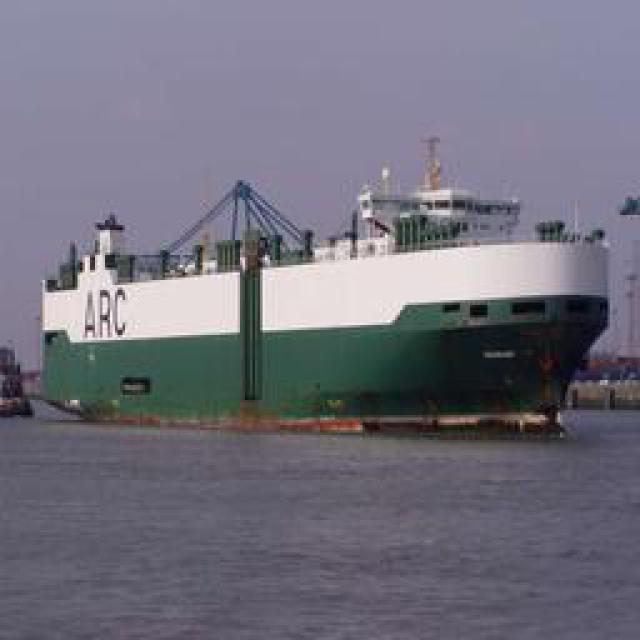Ship: (25, 161, 618, 421)
